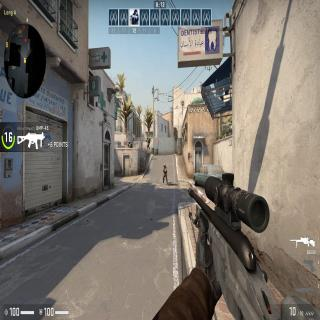CT-Body: (162, 163, 168, 180), (146, 136, 150, 149), (127, 140, 132, 148)
CT-Head: (163, 163, 166, 167), (147, 137, 148, 139), (129, 141, 130, 143)
